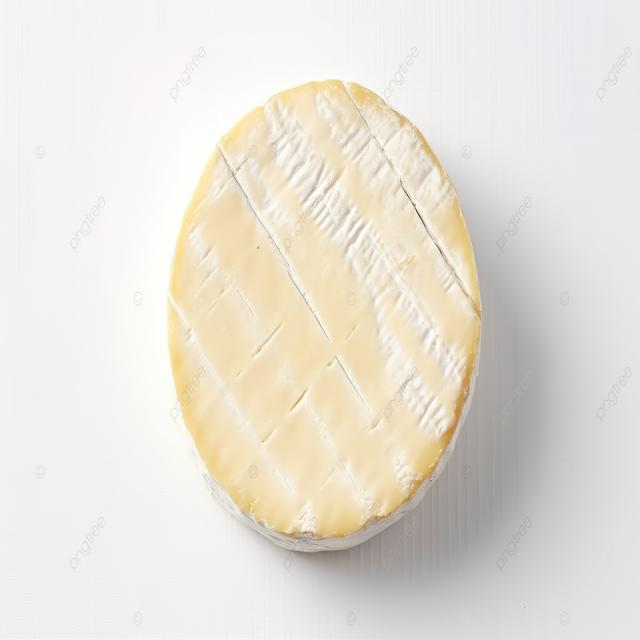Cheese: (168, 70, 482, 556)
